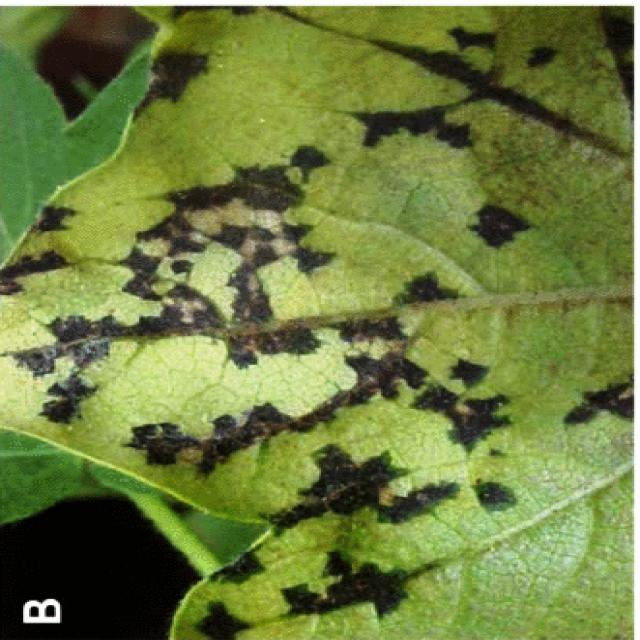Bacterial Blight: (92, 163, 498, 485)
